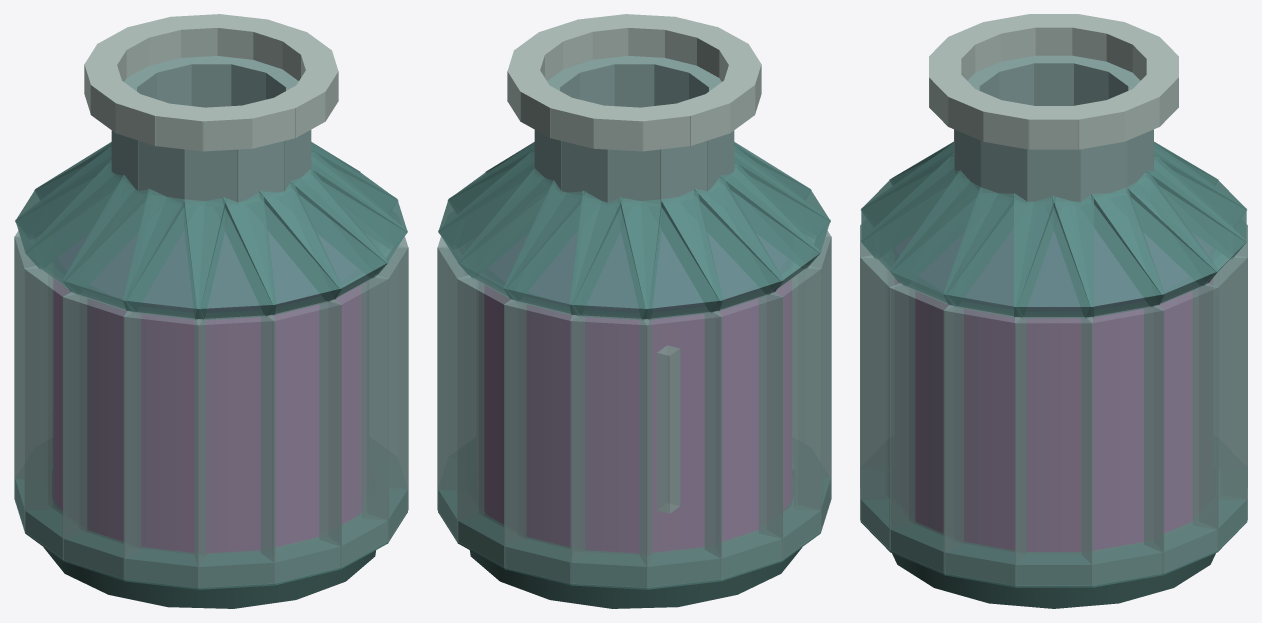
Rendered from CMU3DBottleInaprovalineCloud.glb.
3 views of the same model, side by side, from view 1: azimuth 30°, elevation 25°; view 2: azimuth 150°, elevation 25°; view 3: azimuth 270°, elevation 25° (orthographic).
Parts seen in each view (by area): view 1: static liquid volume level 5, hollow bottle wall 11, hollow bottle wall 12, hollow bottle wall 13, hollow bottle wall 10, hollow bottle wall 14, hollow bottle wall 09, hollow bottle wall 15, inward glass shoulder 11, inward glass shoulder 13, inward glass shoulder 12, hollow bottle wall 08 (+45 smaller); view 2: static liquid volume level 5, hollow bottle wall 07, hollow bottle wall 06, hollow bottle wall 05, hollow bottle wall 08, hollow bottle wall 04, hollow bottle wall 09, hollow bottle wall 03, inward glass shoulder 07, inward glass shoulder 05, inward glass shoulder 06, hollow bottle wall 10 (+46 smaller); view 3: static liquid volume level 5, hollow bottle wall 02, hollow bottle wall 16, hollow bottle wall 01, hollow bottle wall 03, hollow bottle wall 15, hollow bottle wall 04, hollow bottle wall 14, inward glass shoulder 02, inward glass shoulder 16, inward glass shoulder 01, inward glass shoulder 03 (+43 smaller).
Boxes of the visible parts, <box> form: static liquid volume level 5: <box>54,279,360,552</box>; hollow bottle wall 11: <box>123,310,205,587</box>; hollow bottle wall 12: <box>194,314,275,587</box>; hollow bottle wall 13: <box>261,299,341,583</box>; hollow bottle wall 10: <box>62,292,140,579</box>; hollow bottle wall 14: <box>319,275,388,567</box>; hollow bottle wall 09: <box>24,265,86,559</box>; hollow bottle wall 15: <box>362,246,408,541</box>; inward glass shoulder 11: <box>123,188,226,320</box>; inward glass shoulder 13: <box>222,180,342,316</box>; inward glass shoulder 12: <box>184,190,276,320</box>; hollow bottle wall 08: <box>14,236,51,531</box>; static liquid volume level 5: <box>485,279,791,552</box>; hollow bottle wall 07: <box>640,310,722,587</box>; hollow bottle wall 06: <box>570,314,651,587</box>; hollow bottle wall 05: <box>504,299,584,583</box>; hollow bottle wall 08: <box>705,292,783,579</box>; hollow bottle wall 04: <box>457,275,526,567</box>; hollow bottle wall 09: <box>759,265,821,559</box>; hollow bottle wall 03: <box>437,246,483,541</box>; inward glass shoulder 07: <box>619,188,722,320</box>; inward glass shoulder 05: <box>503,180,623,316</box>; inward glass shoulder 06: <box>569,190,661,320</box>; hollow bottle wall 10: <box>794,236,831,531</box>; static liquid volume level 5: <box>895,279,1212,551</box>; hollow bottle wall 02: <box>1081,305,1164,585</box>; hollow bottle wall 16: <box>943,305,1026,585</box>; hollow bottle wall 01: <box>1015,315,1092,585</box>; hollow bottle wall 03: <box>1144,283,1218,573</box>; hollow bottle wall 15: <box>889,283,963,573</box>; hollow bottle wall 04: <box>1193,255,1247,550</box>; hollow bottle wall 14: <box>860,255,914,550</box>; inward glass shoulder 02: <box>1052,187,1164,318</box>; inward glass shoulder 16: <box>943,187,1055,318</box>; inward glass shoulder 01: <box>1014,193,1093,317</box>; inward glass shoulder 03: <box>1091,170,1218,307</box>.
Bounding box in the file's own units: 0.3384 × 0.453 × 0.3384.
